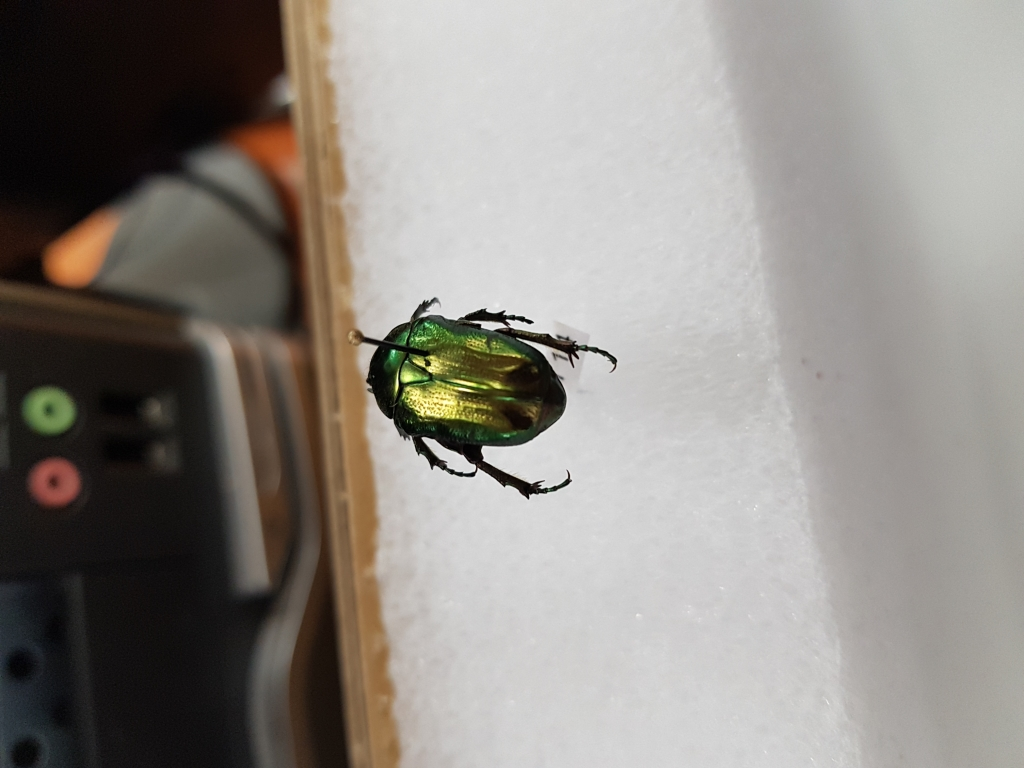Cetonia_aurata: (338, 285, 633, 508)
